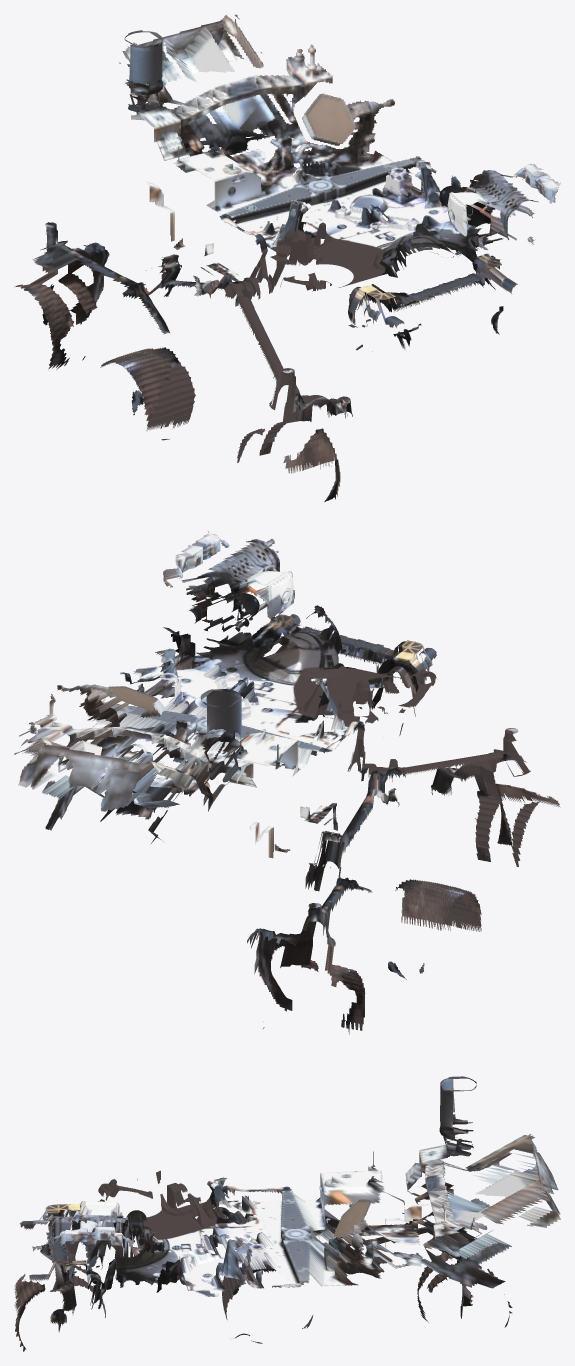
Rendered from Sol0052_S003D2046_rover_rover_surface.glb.
The picture shows the model from 3 angles, top to bottom: view 1: azimuth 30°, elevation 25°; view 2: azimuth 150°, elevation 25°; view 3: azimuth 270°, elevation 25°; orthographic projection. The views are drawn at different scales.
Parts seen in each view (by area): view 1: rover_surface; view 2: rover_surface; view 3: rover_surface.
Part boxes in pixels (x1,y1,x2,y2): rover_surface: (14, 14, 560, 501); rover_surface: (14, 531, 560, 1034); rover_surface: (14, 1076, 560, 1351).
Bounding box in the file's own units: 2.23 × 1.82 × 3.03.
1 material, 1 textured.
